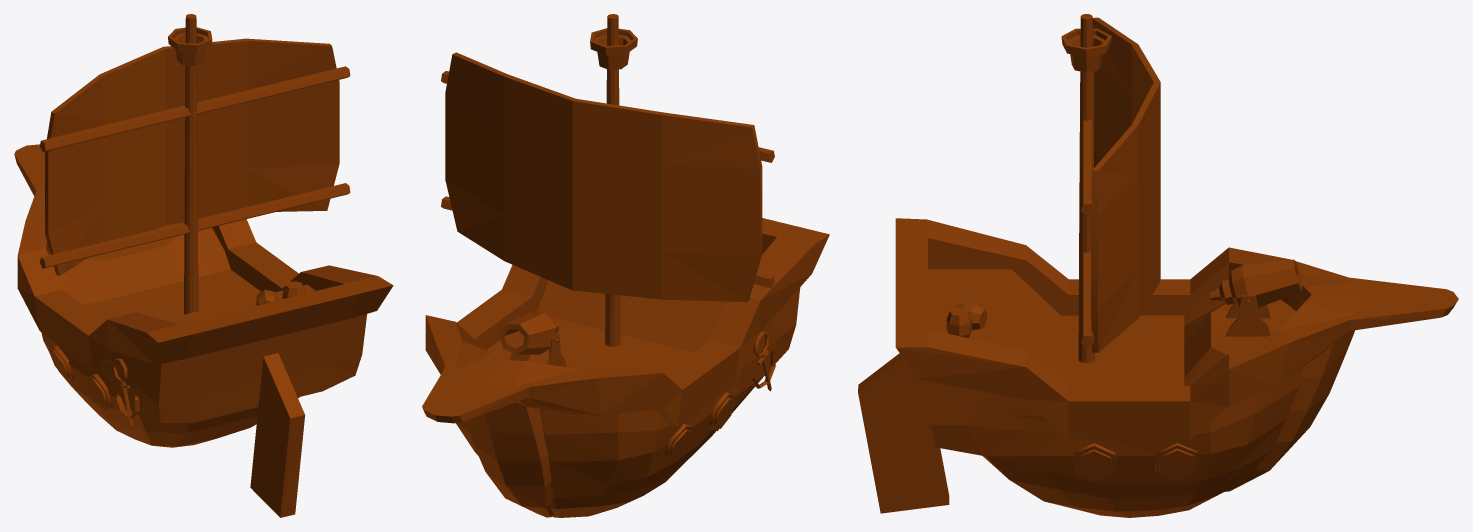
File: ship_7.fbx
The picture shows the model from 3 angles, left to right: view 1: azimuth 30°, elevation 25°; view 2: azimuth 150°, elevation 25°; view 3: azimuth 270°, elevation 25°; orthographic projection. The views are drawn at different scales.
Parts seen in each view (by area): view 1: body, Sail, rudder, mas t; view 2: body, Sail, mas t; view 3: body, Sail, rudder, mas t.
Part boxes in pixels (<box>): body: <box>14,144,393,447</box>; Sail: <box>40,38,350,275</box>; rudder: <box>250,353,304,517</box>; mas t: <box>168,14,212,314</box>; body: <box>422,218,829,517</box>; Sail: <box>441,52,774,302</box>; mas t: <box>590,14,637,346</box>; body: <box>895,218,1458,517</box>; Sail: <box>1080,17,1160,352</box>; rudder: <box>858,353,949,513</box>; mas t: <box>1061,14,1111,362</box>.
Size of the model in its own units: 49.15 by 74.39 by 66.94.
